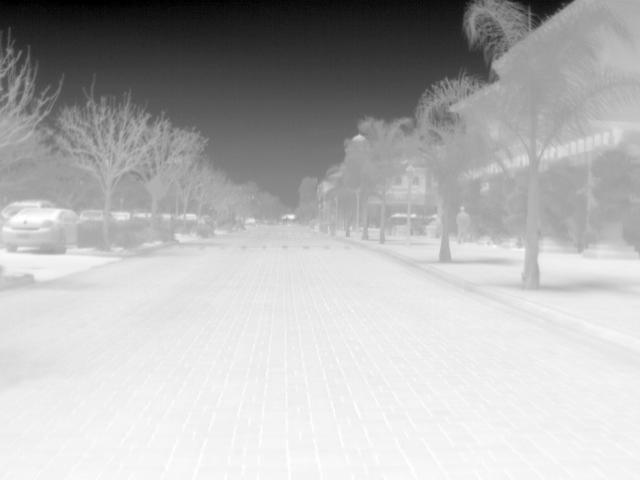car: (2, 208, 81, 250), (0, 197, 56, 228), (77, 208, 104, 222), (242, 214, 258, 228)
person: (456, 204, 471, 248)
